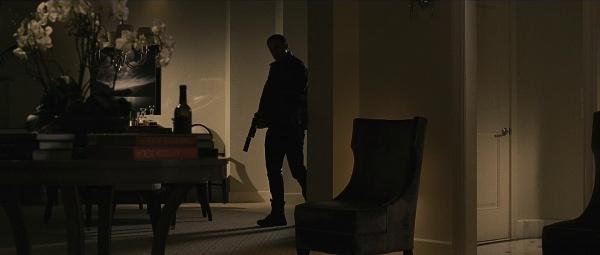Gun: (243, 116, 257, 153)
